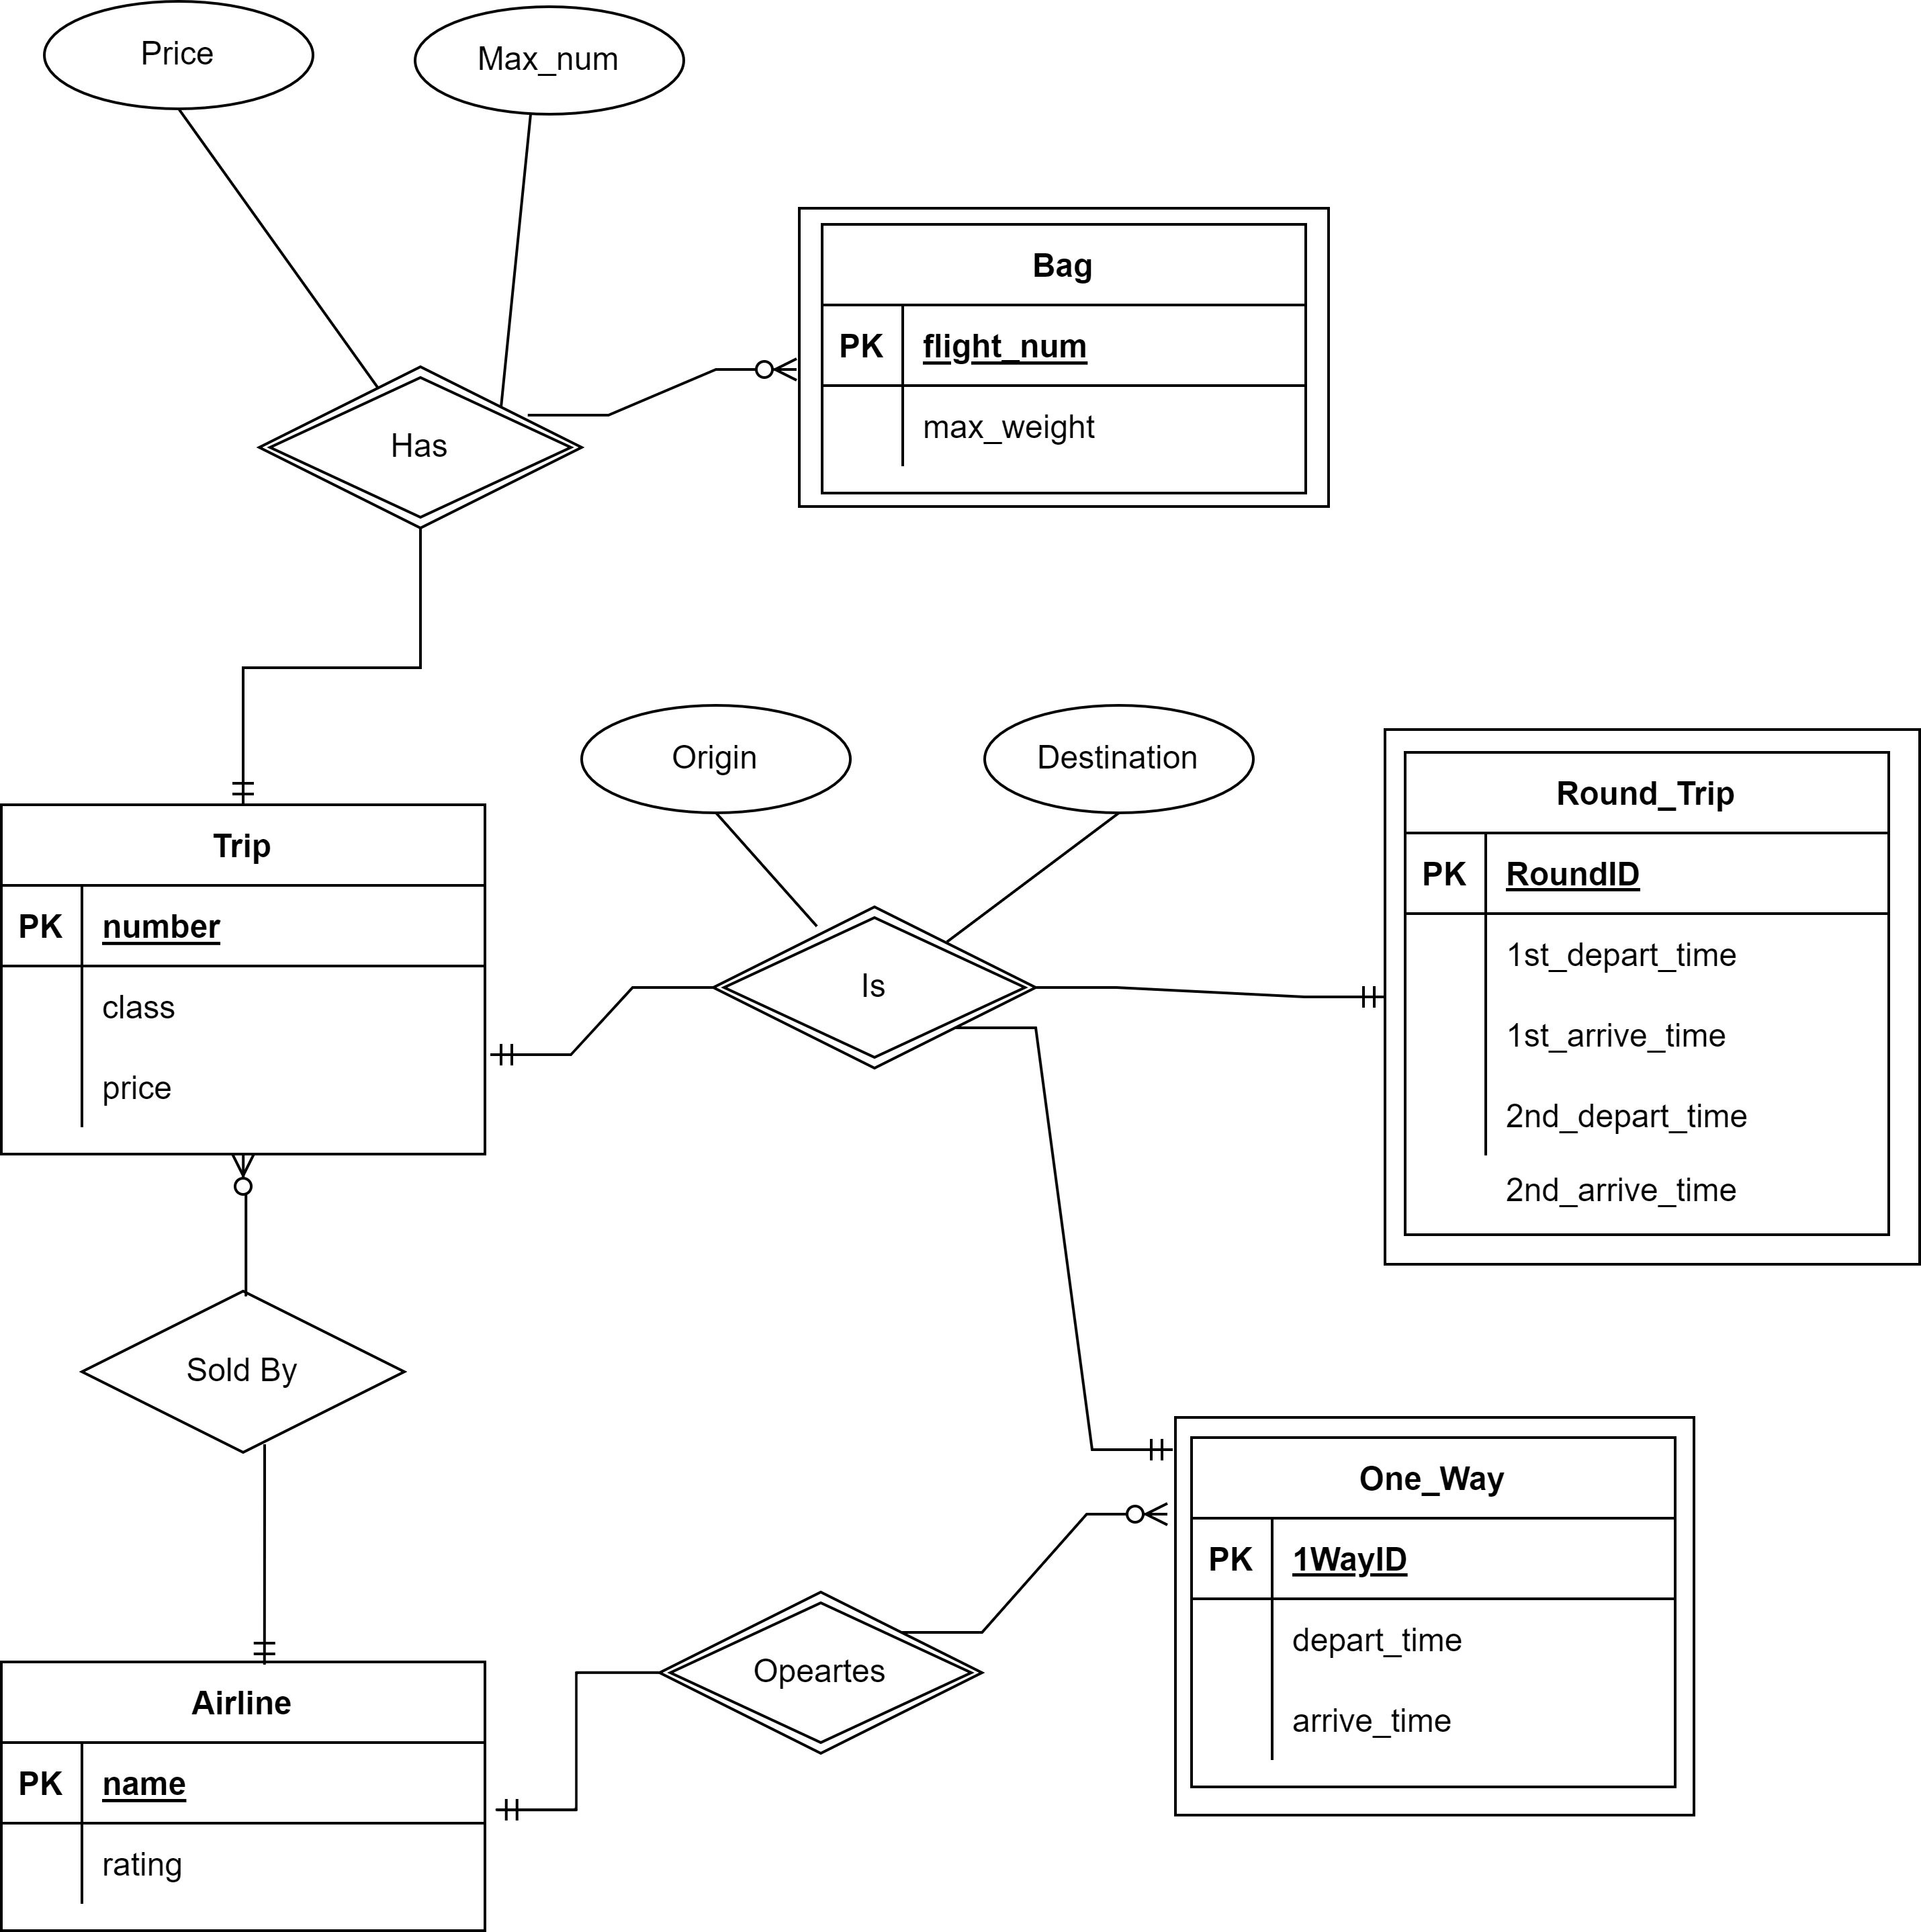entity: (1, 804, 483, 1157), (4, 1663, 487, 1927)
ident_rel: (659, 1593, 987, 1759), (265, 363, 582, 527), (718, 909, 1035, 1067)
many: (713, 352, 795, 392), (1087, 1500, 1175, 1532)
one: (483, 1043, 568, 1070), (490, 1798, 574, 1823), (1315, 986, 1386, 1014), (1094, 1436, 1170, 1461), (250, 1597, 279, 1662), (228, 738, 257, 803)
rel: (88, 1295, 411, 1448)
rel_attr: (579, 699, 848, 815), (38, 1, 308, 114), (411, 1, 680, 109), (982, 707, 1257, 813)
weak_entity: (1385, 729, 1921, 1268), (1175, 1413, 1696, 1820), (795, 204, 1335, 515)
